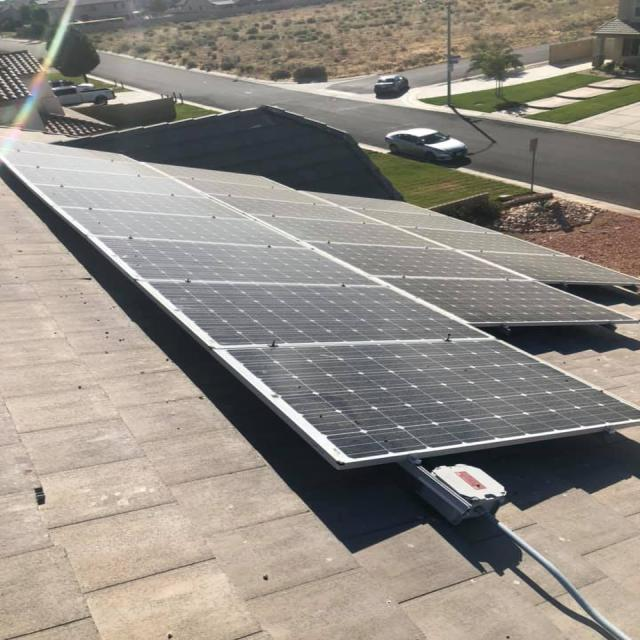dust-solar-panel: (0, 137, 640, 463)
